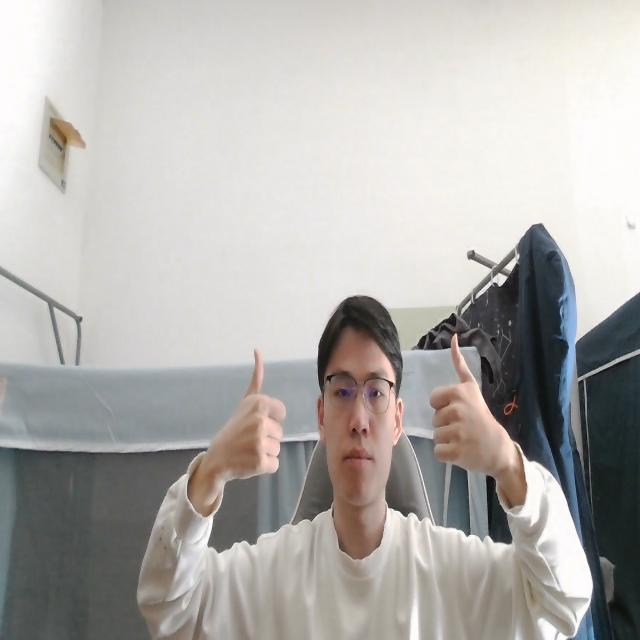good: (423, 328, 508, 481), (206, 349, 290, 488)
